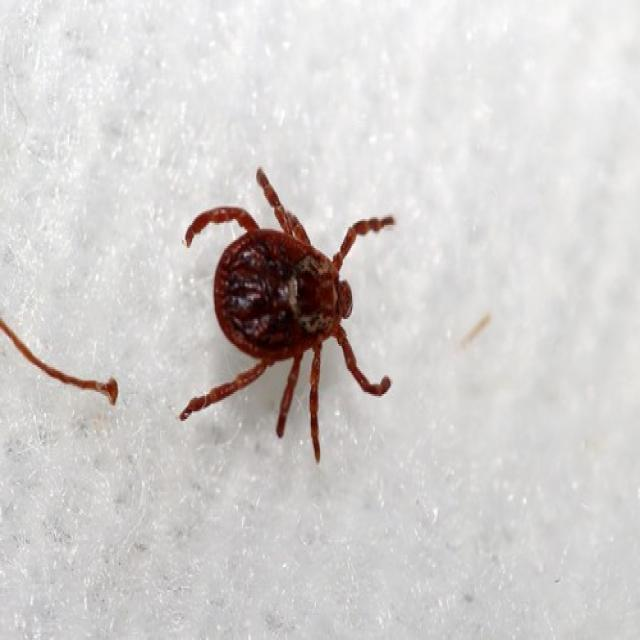Dermacentor Reticulatus-F: (178, 169, 394, 463)
